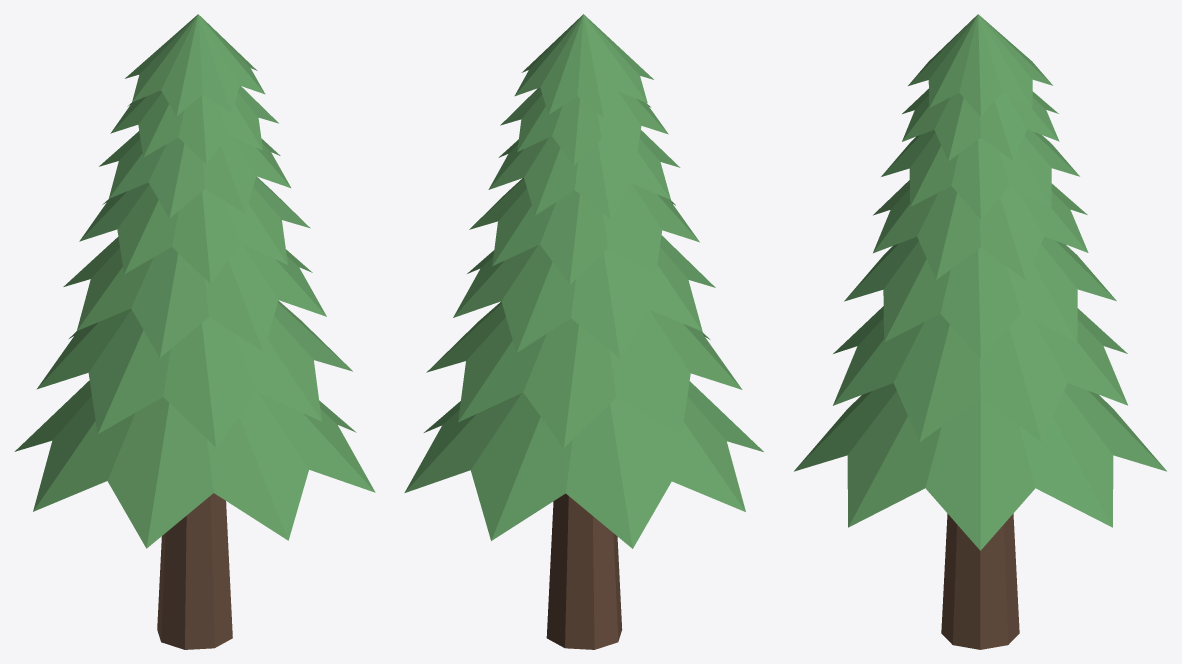
Rendered from Low_Poly_Tree.fbx.
3 views of the same model, side by side, from view 1: azimuth 30°, elevation 25°; view 2: azimuth 150°, elevation 25°; view 3: azimuth 270°, elevation 25° (orthographic).
Visible parts, largest first — view 1: Circle, Circle.001; view 2: Circle, Circle.001; view 3: Circle, Circle.001.
Boxes of the visible parts, x1=… form: Circle: x1=14, y1=14, x2=375, y2=548; Circle.001: x1=157, y1=493, x2=232, y2=649; Circle: x1=404, y1=14, x2=763, y2=548; Circle.001: x1=546, y1=493, x2=622, y2=649; Circle: x1=794, y1=14, x2=1166, y2=550; Circle.001: x1=941, y1=513, x2=1019, y2=649.
Size of the model in its own units: 262 by 478 by 262.
